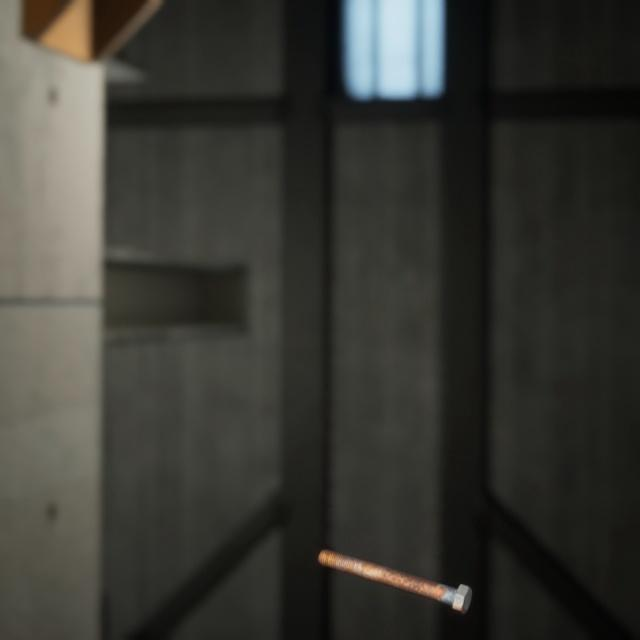bolt: (313, 523, 476, 596)
